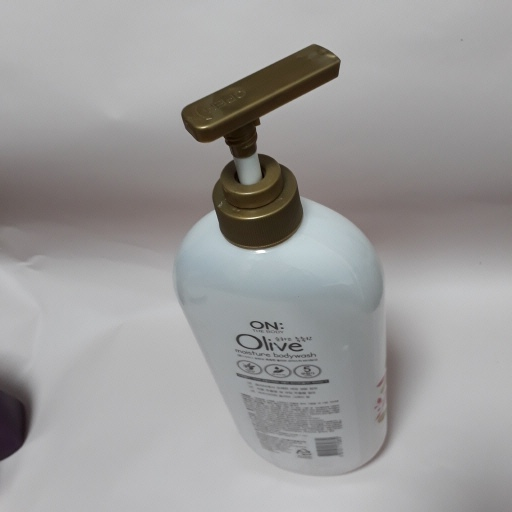Plastic_3: (167, 38, 398, 478)
